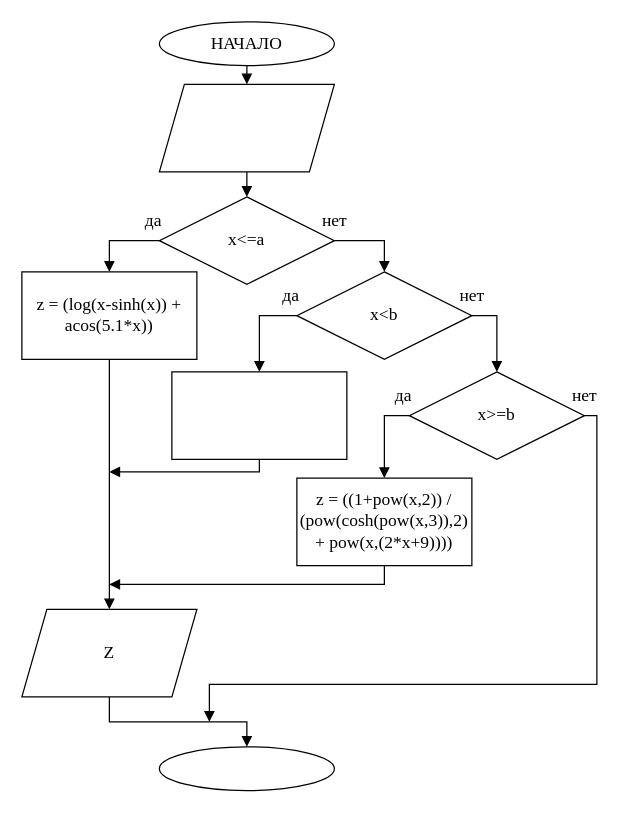
Image size: 631x813. Some labels were removed from this diagram. Here are the shapes that lost their labels. From the top down, the centre of each, then its label:
the point at 246,127: a, b, x
the point at 259,415: z = (pow(sin(2.45*x),2) + 3.81* exp(pow(x,2)+x+1))
the point at 246,768: КОНЕЦ
